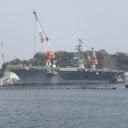Portanaves: (6, 43, 120, 89)
